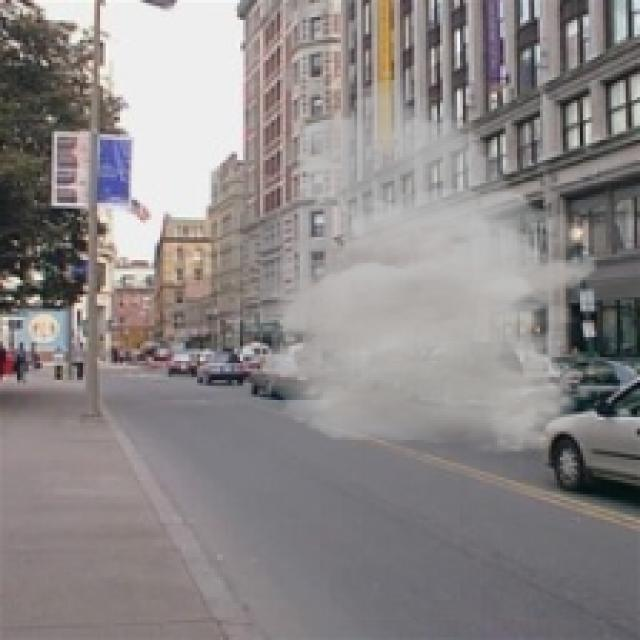Smoke: (215, 68, 600, 454)
